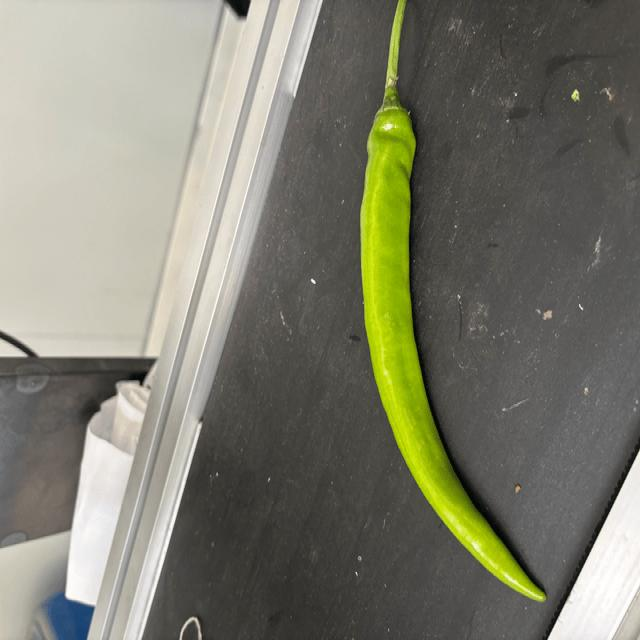chili: (359, 97, 550, 602)
